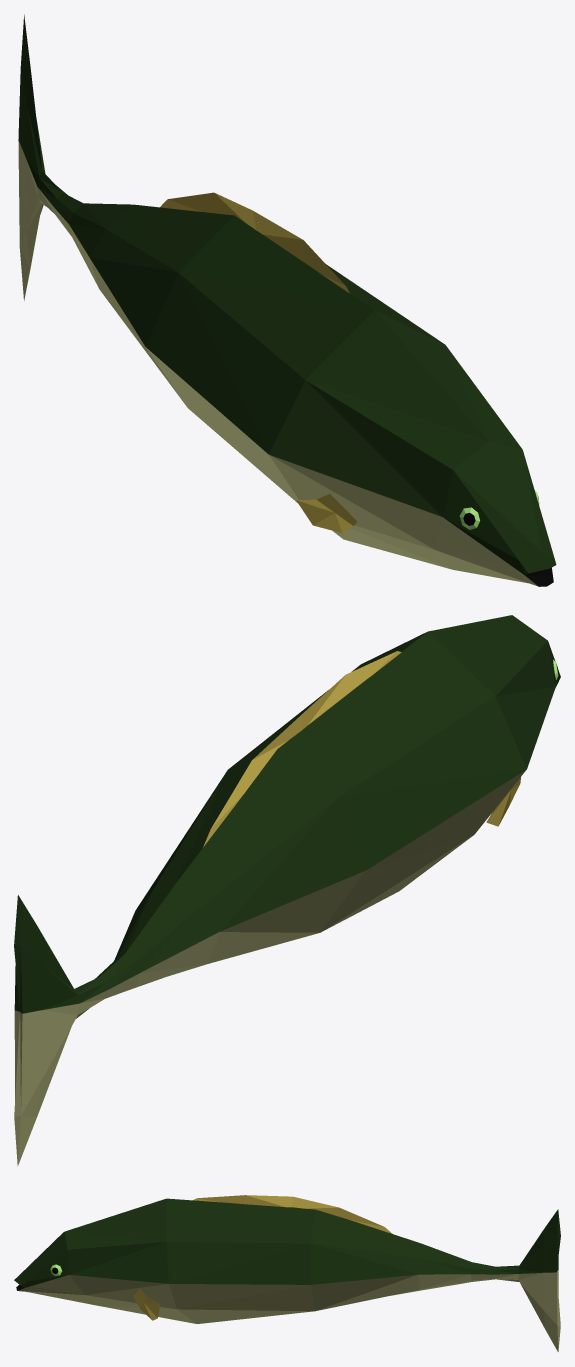
File: Minnow_000014.obj
The picture shows the model from 3 angles, top to bottom: view 1: azimuth 30°, elevation 25°; view 2: azimuth 150°, elevation 25°; view 3: azimuth 270°, elevation 25°; orthographic projection. The views are drawn at different scales.
Size of the model in its own units: 0.7009 by 0.9146 by 3.03.
